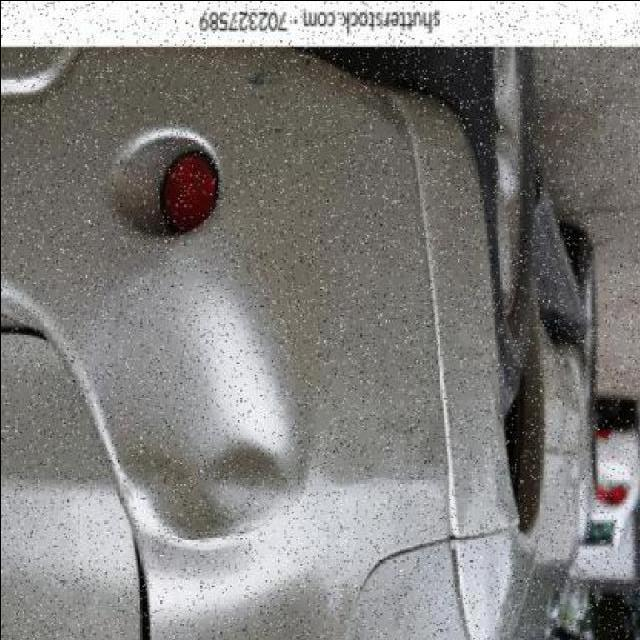rear-bumper-dent: (2, 48, 526, 558)
